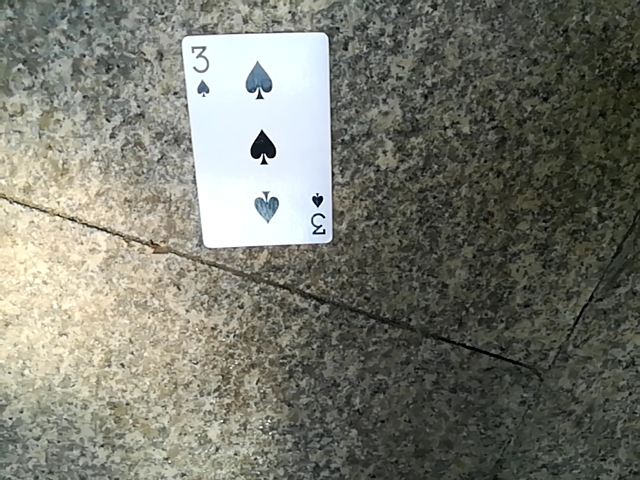ht 3: (183, 23, 332, 248)
